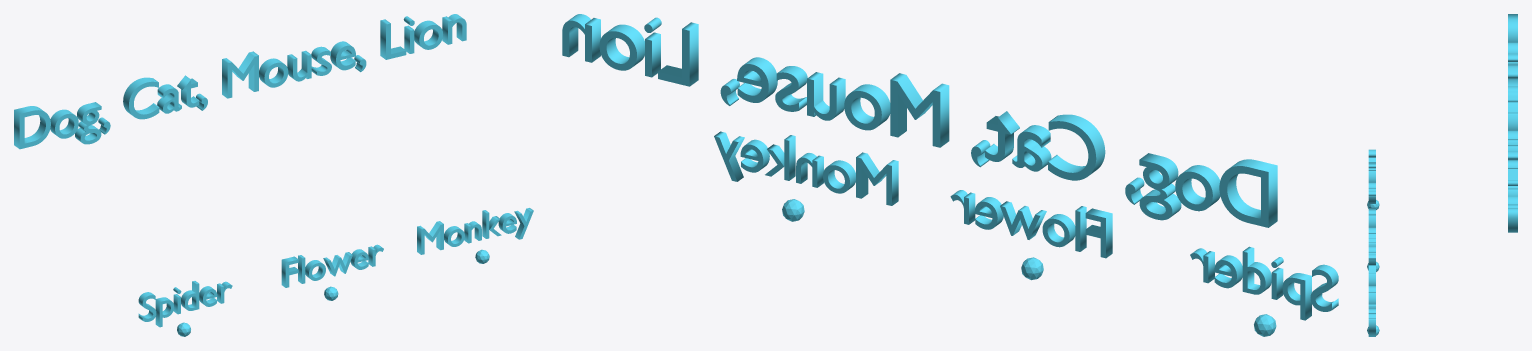
Rendered from console_test_007.fbx.
The picture shows the model from 3 angles, left to right: view 1: azimuth 30°, elevation 25°; view 2: azimuth 150°, elevation 25°; view 3: azimuth 270°, elevation 25°; orthographic projection. The views are drawn at different scales.
Visible parts, largest first — view 1: Txt_Test_01.019, Success.041, Failure.021, Failure.020; view 2: Txt_Test_01.019, Success.041, Failure.021, Failure.020; view 3: Txt_Test_01.019, Success.041, Failure.020, Failure.021.
Part boxes in pixels (x1,y1,x2,y2): Txt_Test_01.019: (14,14,466,149); Success.041: (417,208,533,254); Failure.021: (138,281,232,327); Failure.020: (281,244,383,287); Txt_Test_01.019: (562,14,1277,227); Success.041: (714,131,898,205); Failure.021: (1190,246,1338,320); Failure.020: (950,190,1112,258); Txt_Test_01.019: (1508,14,1517,232); Success.041: (1368,265,1375,336); Failure.020: (1368,208,1375,264); Failure.021: (1368,149,1375,203).
Size of the model in its own units: 1.76 by 0.7021 by 0.597.
